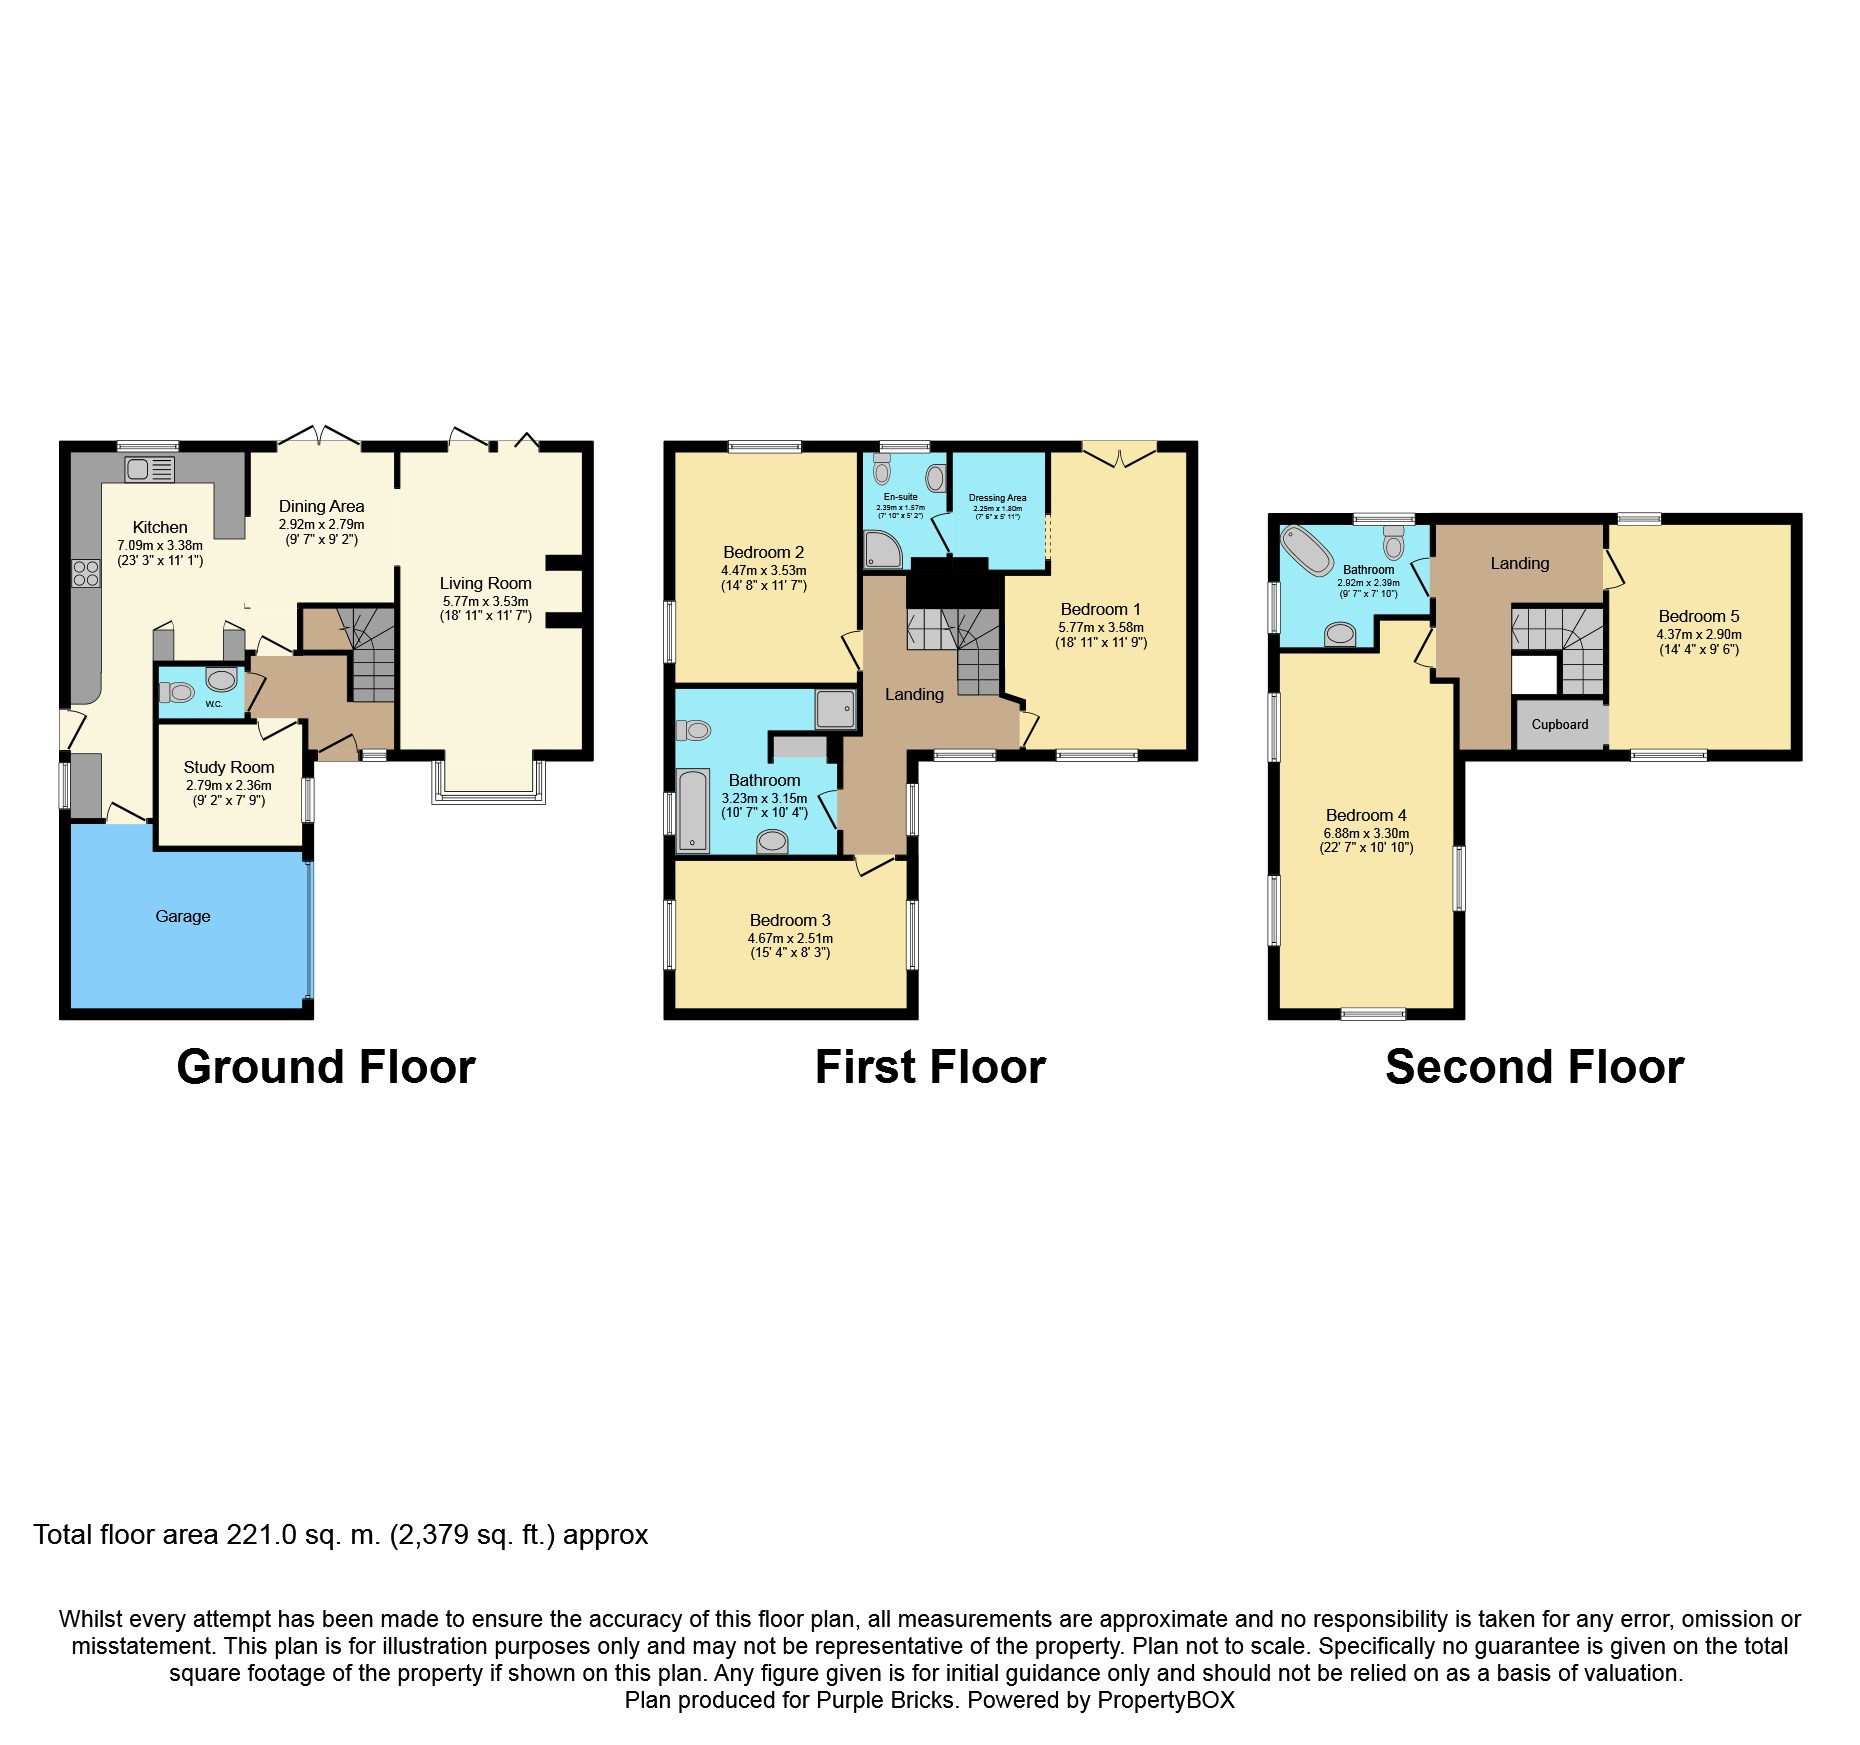door: (279, 418, 358, 449), (66, 707, 98, 749), (1411, 626, 1437, 669), (1602, 548, 1629, 590), (1404, 556, 1430, 599), (318, 730, 358, 756), (851, 856, 896, 879), (103, 799, 144, 823), (258, 717, 297, 741), (815, 787, 838, 828), (838, 630, 861, 671), (244, 671, 267, 712), (1102, 448, 1125, 489), (927, 510, 950, 551), (254, 630, 290, 654), (448, 421, 486, 444), (1022, 710, 1040, 746), (513, 425, 536, 448)
